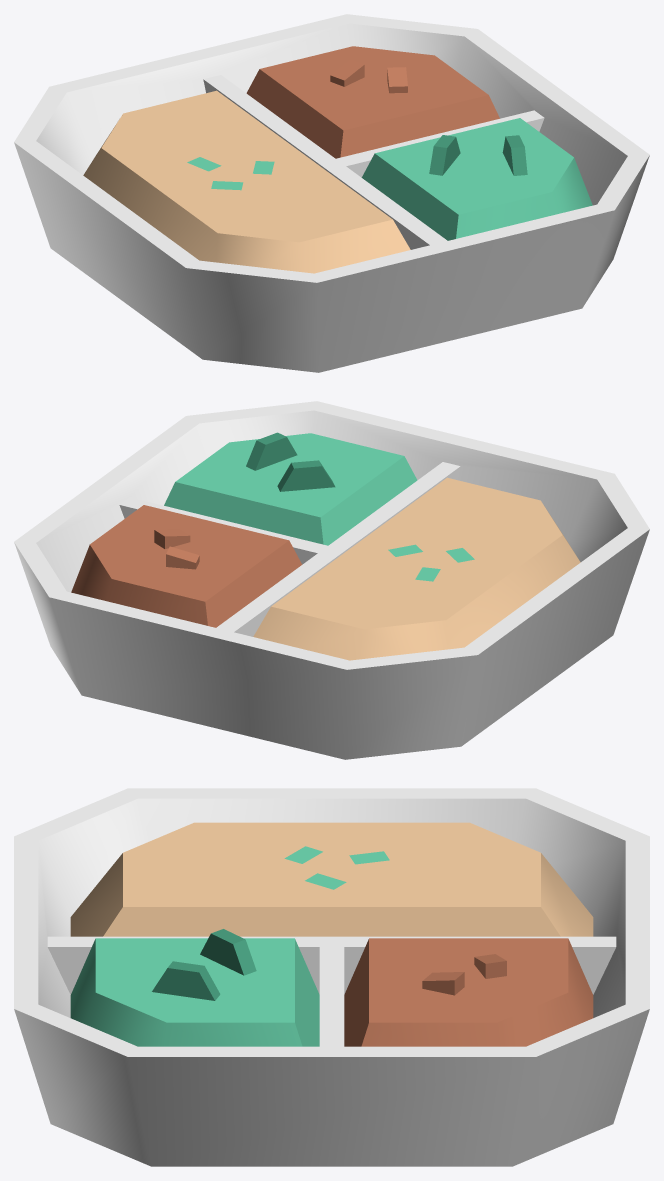
File: styrofoamDinner.GLB
The picture shows the model from 3 angles, top to bottom: view 1: azimuth 30°, elevation 25°; view 2: azimuth 150°, elevation 25°; view 3: azimuth 270°, elevation 25°; orthographic projection. The views are drawn at different scales.
Visible parts, largest first — view 1: styrofoamDinner; view 2: styrofoamDinner; view 3: styrofoamDinner.
Part boxes in pixels (x1=…): styrofoamDinner: x1=14, y1=14, x2=649, y2=372; styrofoamDinner: x1=14, y1=401, x2=649, y2=759; styrofoamDinner: x1=14, y1=788, x2=649, y2=1166.
Size of the model in its own units: 0.7589 by 0.1994 by 0.7589.
